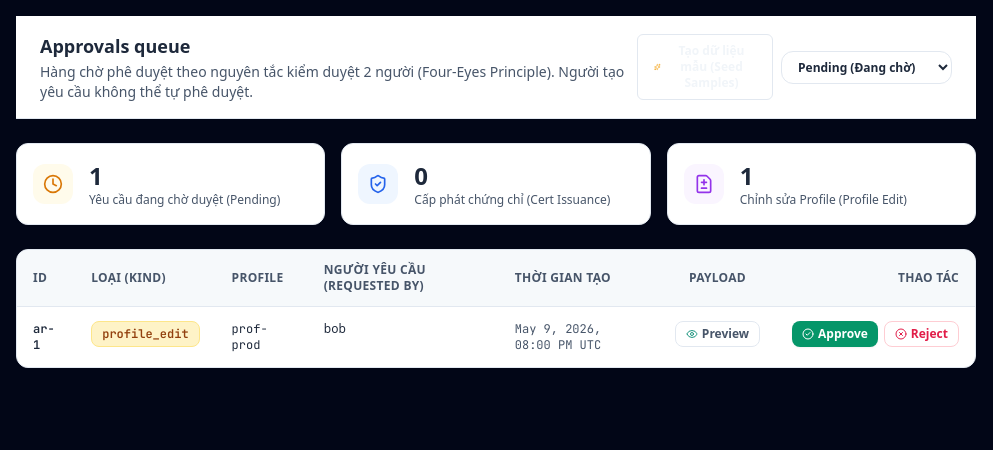
Scenario: ApprovalsPage › A-5 ProfileEdit with no changes renders empty-state
The image size is (993, 450).
Step 1. Click the button with test id "approvals-preview-toggle-ar-1" → (717, 334), box 675,321 -> 760,347
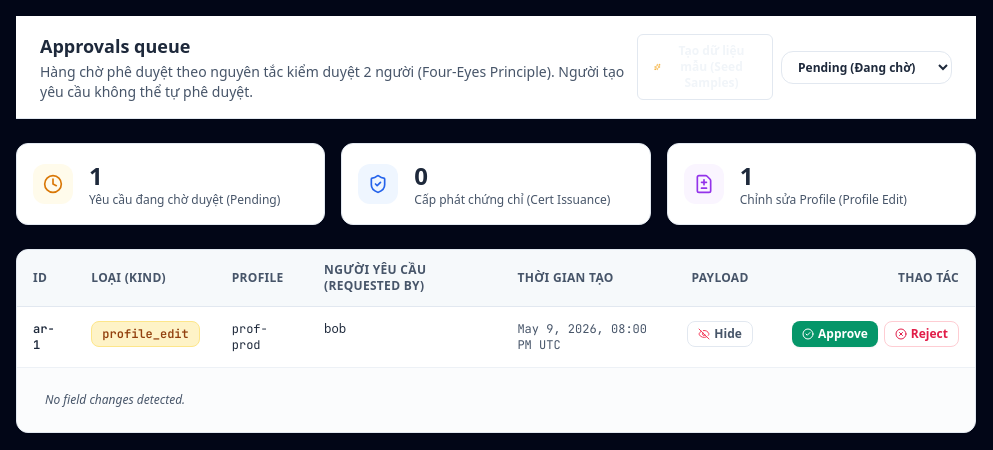
Expected: the text "No field changes detected." is shown, 45,391 -> 185,408
